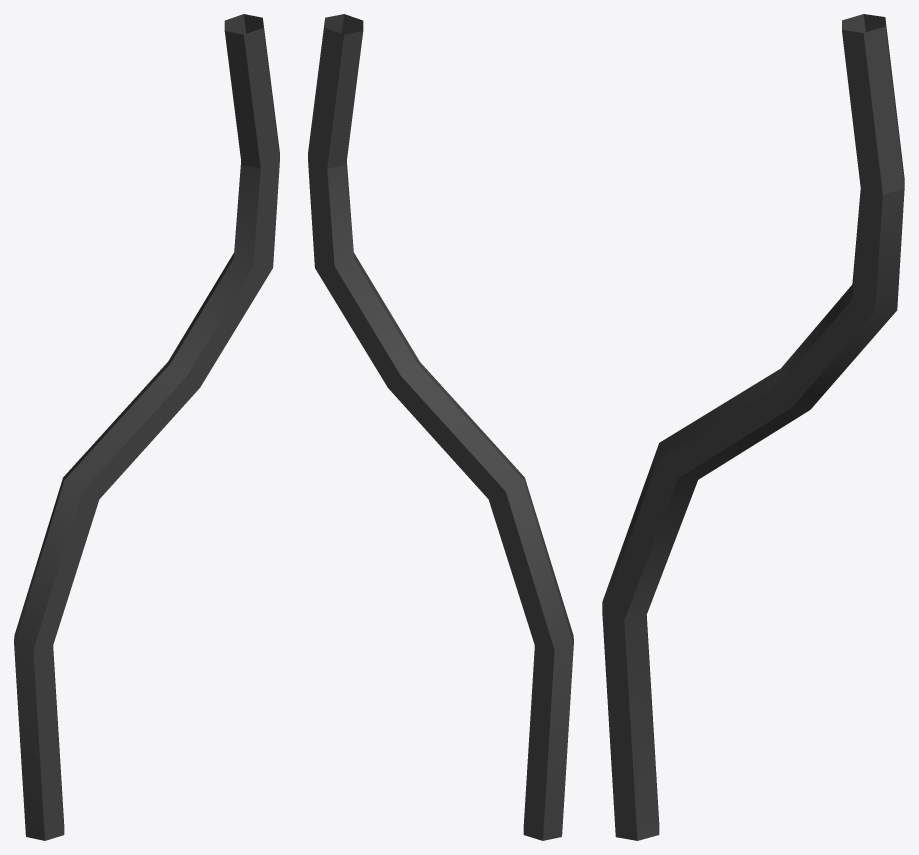
File: Itr_Sink_Waterspout_01.FBX
The picture shows the model from 3 angles, left to right: view 1: azimuth 30°, elevation 25°; view 2: azimuth 150°, elevation 25°; view 3: azimuth 330°, elevation 25°; orthographic projection. The views are drawn at different scales.
Visible parts, largest first — view 1: Itr_Sink_Waterspout_01; view 2: Itr_Sink_Waterspout_01; view 3: Itr_Sink_Waterspout_01.
Part boxes in pixels (x1=…): Itr_Sink_Waterspout_01: x1=14, y1=14, x2=279, y2=840; Itr_Sink_Waterspout_01: x1=308, y1=14, x2=573, y2=840; Itr_Sink_Waterspout_01: x1=602, y1=14, x2=904, y2=840.
Bounding box in the file's own units: 6.93 × 18.97 × 0.866.
